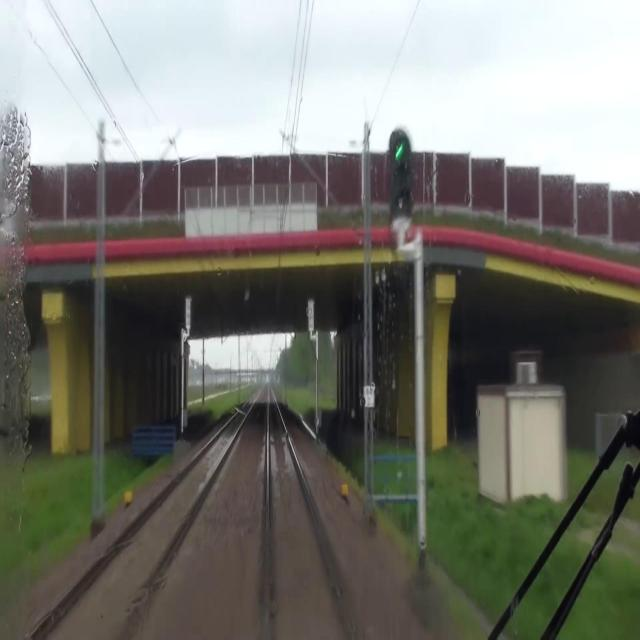rail-track: (28, 404, 250, 639), (270, 392, 356, 639)
